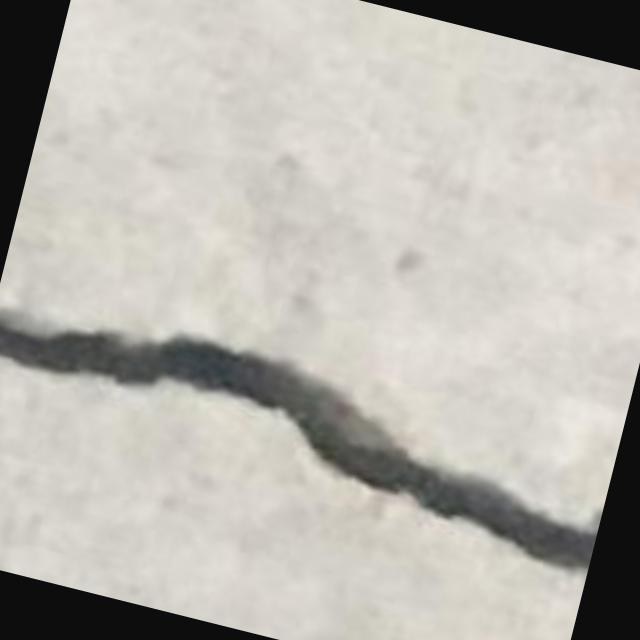crack: (0, 318, 598, 571)
